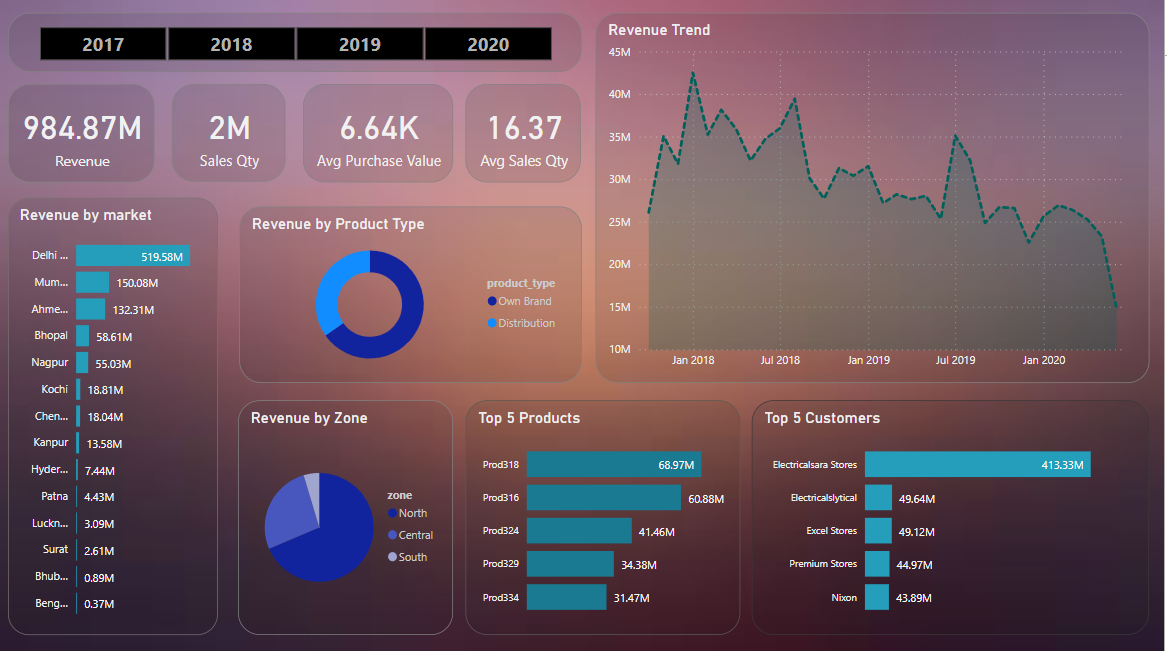

This screenshot's page, from the dashboard's own definition file:
{"tool":"powerbi","page":{"name":"SalesDashboard1","canvas":[1280,720],"ordinal":0},"visuals":[{"type":"card","fields":{"Values":["BaseMeasures.Sales Qty"]},"box":[420.8,70.1,132.2,107.9],"z":0},{"type":"card","fields":{"Values":["BaseMeasures.Revenue"]},"box":[28.3,70.1,178,107.9],"z":1000},{"type":"barChart","title":"Revenue Contribution % by market","fields":{"Category":["sales market.market_name"],"Y":["BaseMeasures.Revenue Contribution %"]},"box":[28.3,201,213.1,478.8],"z":2000},{"type":"card","fields":{"Values":["BaseMeasures.Avg_sales/transaction"]},"box":[565.1,70.1,175.3,107.9],"z":3000},{"type":"card","fields":{"Values":["BaseMeasures.Avg Sales Qty"]},"box":[749.9,70.1,137.6,109.3],"z":4000},{"type":"card","fields":{"Values":["BaseMeasures.Total Profit Margin"]},"box":[223.9,70.1,186.1,107.9],"z":5000},{"type":"barChart","title":"Profit margin % by market","fields":{"Category":["sales market.market_name"],"Y":["BaseMeasures.Profit Margin %"]},"box":[515.2,203.7,225.2,477.5],"z":6000},{"type":"barChart","title":"Profit margin Contribution% by market","fields":{"Category":["sales market.market_name"],"Y":["BaseMeasures.Profit Margin Contribution %"]},"box":[254.9,202.3,249.5,478.8],"z":7000},{"type":"textbox","box":[536.8,1.3,222.6,41.8],"z":8000},{"type":"pieChart","title":"Profit margin contribution % by customer type","fields":{"Category":["sales customer.customer_type"],"Y":["BaseMeasures.Profit Margin Contribution %"]},"box":[759.4,499.1,242.8,180.7],"z":9000},{"type":"donutChart","title":"Profit margin contribution % by product type","fields":{"Category":["sales product.product_type"],"Y":["BaseMeasures.Profit Margin Contribution %"]},"box":[1018.3,499.1,237.4,180.7],"z":10000},{"type":"slicer","fields":{"Values":["sales date.year"]},"box":[898.3,70.1,357.4,107.9],"z":11000},{"type":"actionButton","box":[1208.6,1.3,47.2,40.4],"z":12000},{"type":"areaChart","title":"Revenue Trend","fields":{"Category":["sales date.first_date_of_month.Variation.Date Hierarchy.Year","sales date.first_date_of_month.Variation.Date Hierarchy.Quarter","sales date.first_date_of_month.Variation.Date Hierarchy.Month","sales date.first_date_of_month.Variation.Date Hierarchy.Day"],"Y":["BaseMeasures.Revenue"],"Y2":["BaseMeasures.Total Profit Margin"]},"box":[759.4,203.7,496.4,280.5],"z":13000}]}

Visuals, with their boxes in screenshot pixels (x1, y1, x2, y2), scaled from the page's 1280x720 canvas onto the 1167x651 screenshot:
card - BaseMeasures.Sales Qty: left=384, top=63, right=504, bottom=161
card - BaseMeasures.Revenue: left=26, top=63, right=188, bottom=161
"Revenue Contribution % by market" barChart: left=26, top=182, right=220, bottom=615
card - BaseMeasures.Avg_sales/transaction: left=515, top=63, right=675, bottom=161
card - BaseMeasures.Avg Sales Qty: left=684, top=63, right=809, bottom=162
card - BaseMeasures.Total Profit Margin: left=204, top=63, right=374, bottom=161
"Profit margin % by market" barChart: left=470, top=184, right=675, bottom=616
"Profit margin Contribution% by market" barChart: left=232, top=183, right=460, bottom=616
textbox: left=489, top=1, right=692, bottom=39
"Profit margin contribution % by customer type" pieChart: left=692, top=451, right=914, bottom=615
"Profit margin contribution % by product type" donutChart: left=928, top=451, right=1145, bottom=615
slicer - sales date.year: left=819, top=63, right=1145, bottom=161
actionButton: left=1102, top=1, right=1145, bottom=38
"Revenue Trend" areaChart: left=692, top=184, right=1145, bottom=438
